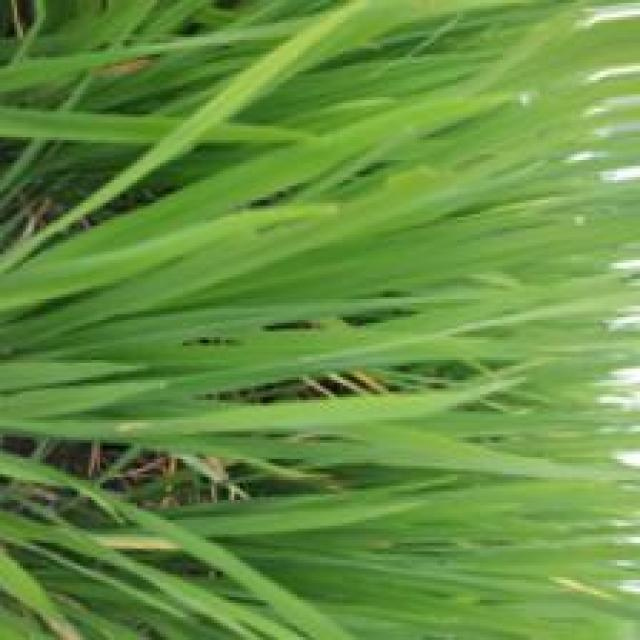HealthyLeaf: (172, 224, 456, 311), (94, 153, 279, 251)
